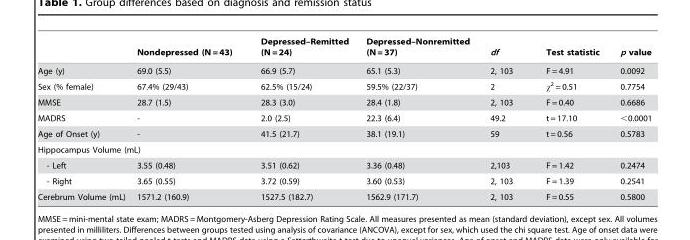table: (37, 36, 651, 201)
table column: (356, 36, 478, 201), (130, 36, 245, 201), (245, 36, 356, 201), (37, 36, 130, 201), (528, 36, 608, 201), (478, 36, 528, 201), (608, 36, 651, 201)
table column header: (37, 36, 651, 61)
table projected row header: (37, 141, 651, 157)
table row: (37, 36, 651, 61), (37, 77, 651, 94), (37, 61, 651, 77), (37, 94, 651, 110), (37, 125, 651, 141), (37, 141, 651, 157), (37, 157, 651, 173), (37, 110, 651, 125), (37, 173, 651, 188), (37, 188, 651, 201)
